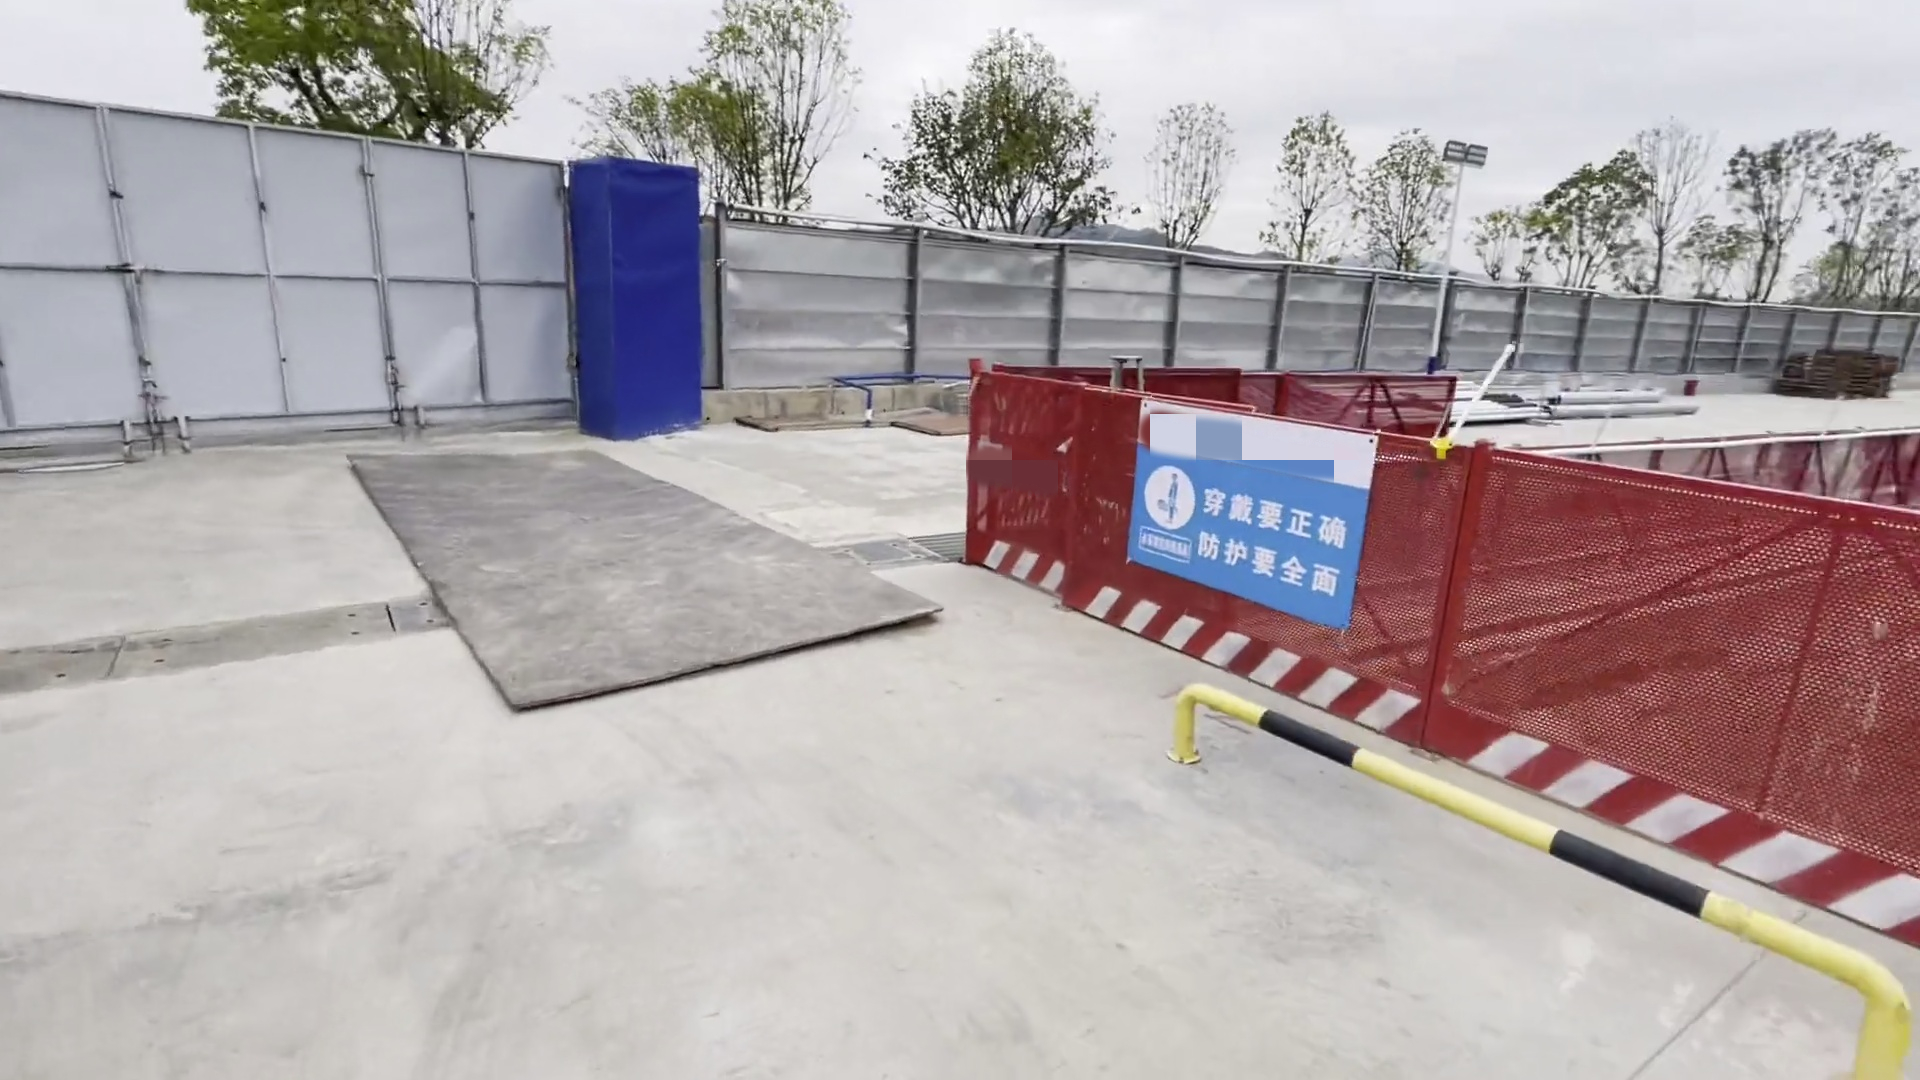fence: (955, 359, 1920, 943)
slogan: (1133, 464, 1338, 599)
